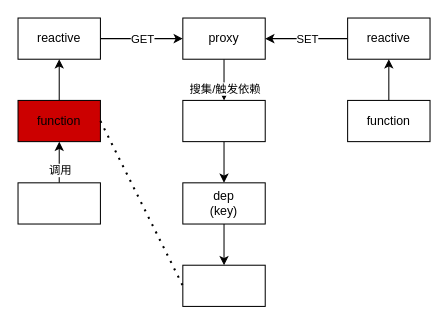
Some shapes in this 448 by 324 pixel diagram are drawn without their labels. Here are the shapes that lost their labels. From the top down, the centre of each, then its label:
the point at 223,120: tarMap (object)
the point at 58,203: effect
the point at 223,285: depend
